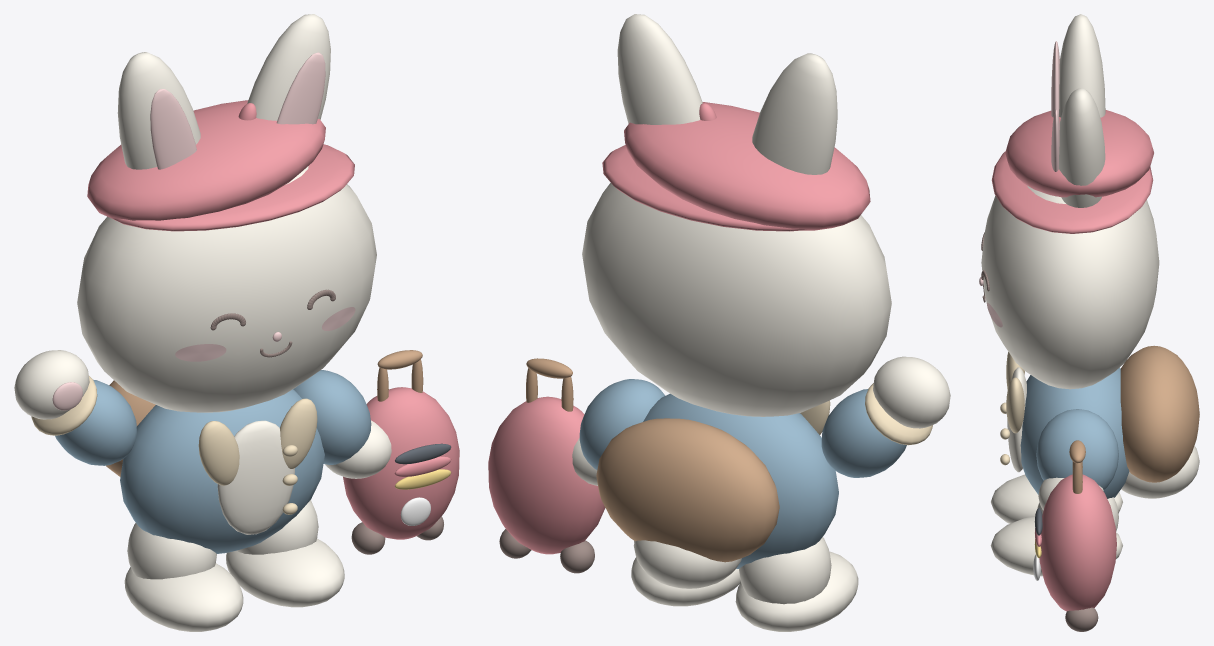
File: reise-bunny.glb
The picture shows the model from 3 angles, left to right: view 1: azimuth 30°, elevation 25°; view 2: azimuth 150°, elevation 25°; view 3: azimuth 270°, elevation 25°; orthographic projection. The views are drawn at different scales.
Parts seen in each view (by area): view 1: Head, Beret, Coat, Suitcase, Shirt, Foot, Foot.001, BeretBand, Ear, Ear.001, RightSleeve, WaveSleeve (+18 smaller); view 2: Head, Backpack, Beret, Suitcase, Coat, Ear, Ear.001, WaveSleeve, WavePaw, Foot, Leg, RightSleeve (+6 smaller); view 3: Head, Backpack, Suitcase, Beret, Coat, BeretBand, RightSleeve, Ear.001, Ear, Foot.001, Foot, Tail (+6 smaller).
Boxes of the visible parts, x1=… form: Head: x1=77, y1=166, x2=376, y2=412; Beret: x1=87, y1=100, x2=325, y2=220; Coat: x1=120, y1=389, x2=324, y2=553; Suitcase: x1=343, y1=387, x2=459, y2=539; Shirt: x1=217, y1=420, x2=294, y2=534; Foot: x1=124, y1=563, x2=243, y2=631; Foot.001: x1=226, y1=538, x2=344, y2=607; BeretBand: x1=113, y1=144, x2=354, y2=231; Ear: x1=117, y1=52, x2=200, y2=169; Ear.001: x1=247, y1=14, x2=330, y2=120; RightSleeve: x1=293, y1=370, x2=371, y2=464; WaveSleeve: x1=55, y1=379, x2=136, y2=465; Head: x1=582, y1=183, x2=891, y2=416; Backpack: x1=596, y1=418, x2=779, y2=562; Beret: x1=624, y1=102, x2=870, y2=230; Suitcase: x1=488, y1=396, x2=605, y2=554; Coat: x1=643, y1=393, x2=838, y2=568; Ear: x1=752, y1=53, x2=837, y2=174; Ear.001: x1=617, y1=14, x2=702, y2=124; WaveSleeve: x1=821, y1=389, x2=906, y2=477; WavePaw: x1=873, y1=356, x2=950, y2=428; Foot: x1=735, y1=551, x2=858, y2=631; Leg: x1=739, y1=537, x2=831, y2=604; RightSleeve: x1=579, y1=379, x2=664, y2=470; Head: x1=981, y1=185, x2=1159, y2=389; Backpack: x1=1120, y1=345, x2=1199, y2=482; Suitcase: x1=1039, y1=474, x2=1116, y2=611; Beret: x1=1005, y1=110, x2=1153, y2=197; Coat: x1=1020, y1=367, x2=1129, y2=498; BeretBand: x1=991, y1=151, x2=1153, y2=233; RightSleeve: x1=1036, y1=409, x2=1118, y2=489; Ear.001: x1=1059, y1=88, x2=1105, y2=207; Ear: x1=1059, y1=14, x2=1105, y2=117; Foot.001: x1=990, y1=516, x2=1122, y2=576; Foot: x1=991, y1=474, x2=1122, y2=523; Tail: x1=1121, y1=445, x2=1199, y2=498.
Bounding box in the file's own units: 2.17 × 2.66 × 1.07.
